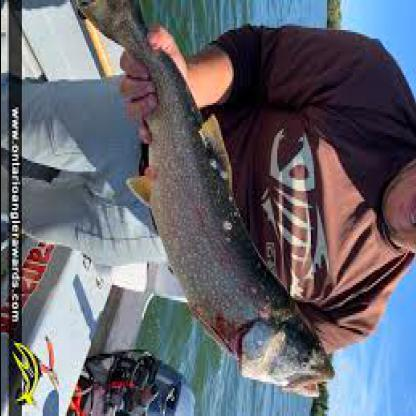fish: (72, 0, 336, 391)
